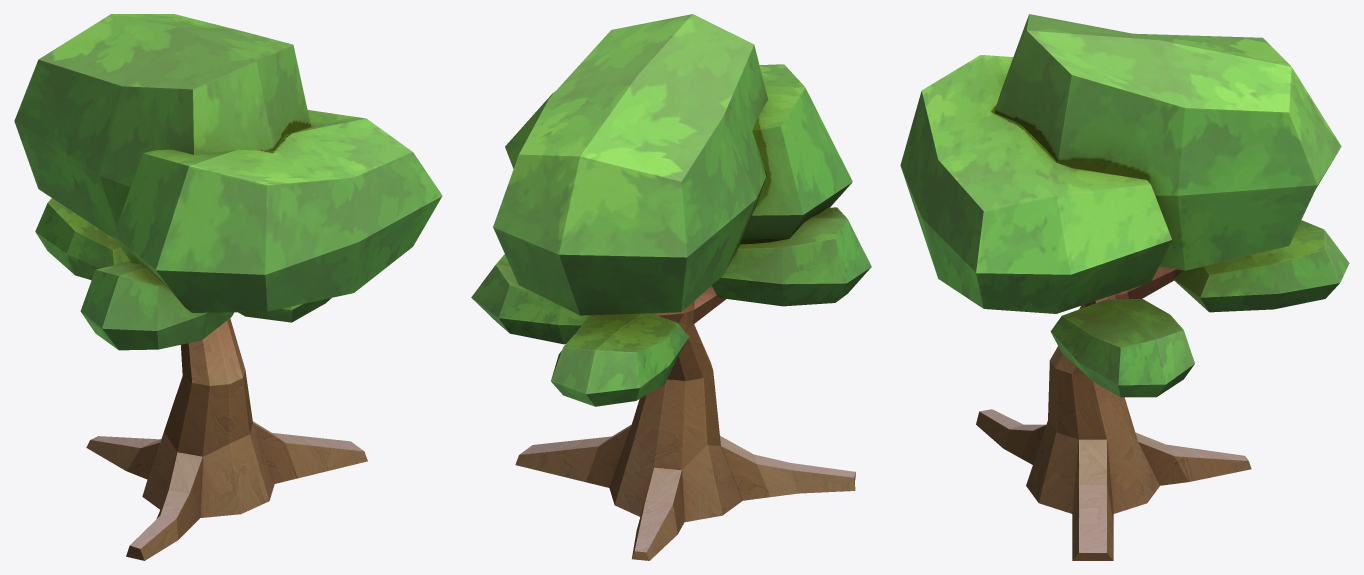
Rendered from arbol-2.glb.
3 views of the same model, side by side, from view 1: azimuth 30°, elevation 25°; view 2: azimuth 150°, elevation 25°; view 3: azimuth 270°, elevation 25° (orthographic). The views are drawn at different scales.
Parts seen in each view (by area): view 1: Hojas2, Arbol2; view 2: Hojas2, Arbol2; view 3: Hojas2, Arbol2.
Boxes of the visible parts, box(x1,y1,x2,y2) form: Hojas2: box(14, 14, 442, 350); Arbol2: box(86, 318, 367, 560); Hojas2: box(471, 14, 871, 406); Arbol2: box(515, 286, 855, 560); Hojas2: box(900, 14, 1349, 397); Arbol2: box(976, 266, 1251, 560).
Bounding box in the file's own units: 3.97 × 5.15 × 4.53.
Materials: 2 (2 with a texture image).
